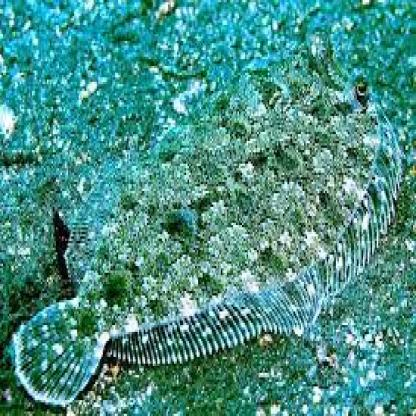flounder: (11, 63, 398, 402)
